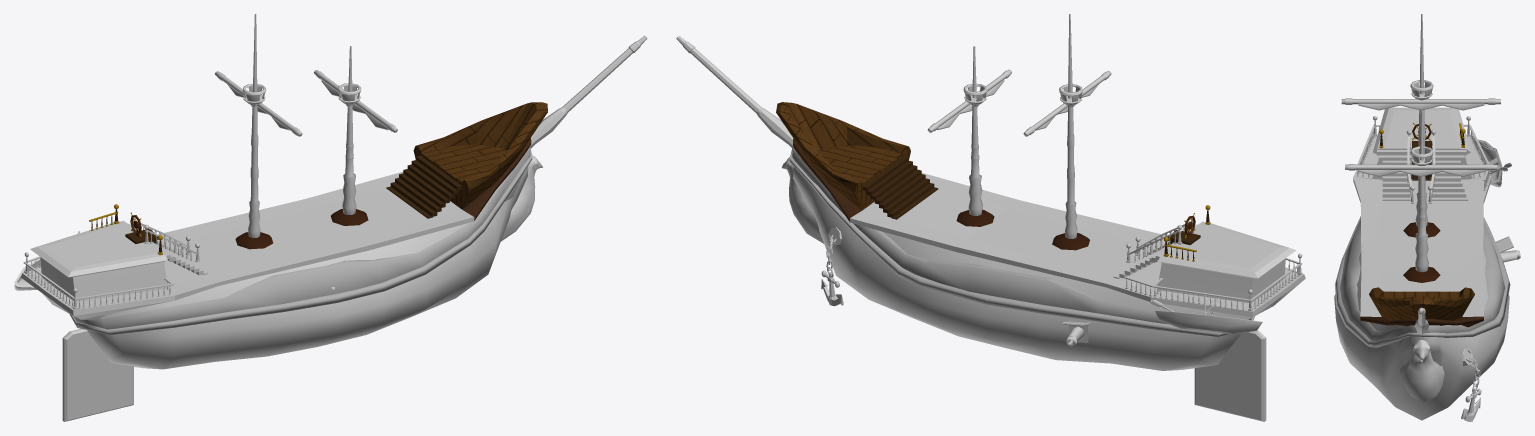
Rendered from ship_003.fbx.
The picture shows the model from 3 angles, left to right: view 1: azimuth 30°, elevation 25°; view 2: azimuth 150°, elevation 25°; view 3: azimuth 270°, elevation 25°; orthographic projection. The views are drawn at different scales.
Visible parts, largest first — view 1: ship; view 2: ship; view 3: ship.
Part boxes in pixels (x1,y1,x2,y2): ship: (14, 14, 647, 421); ship: (676, 14, 1305, 421); ship: (1334, 14, 1520, 421).
Bounding box in the file's own units: 4034 × 2276 × 1120.
